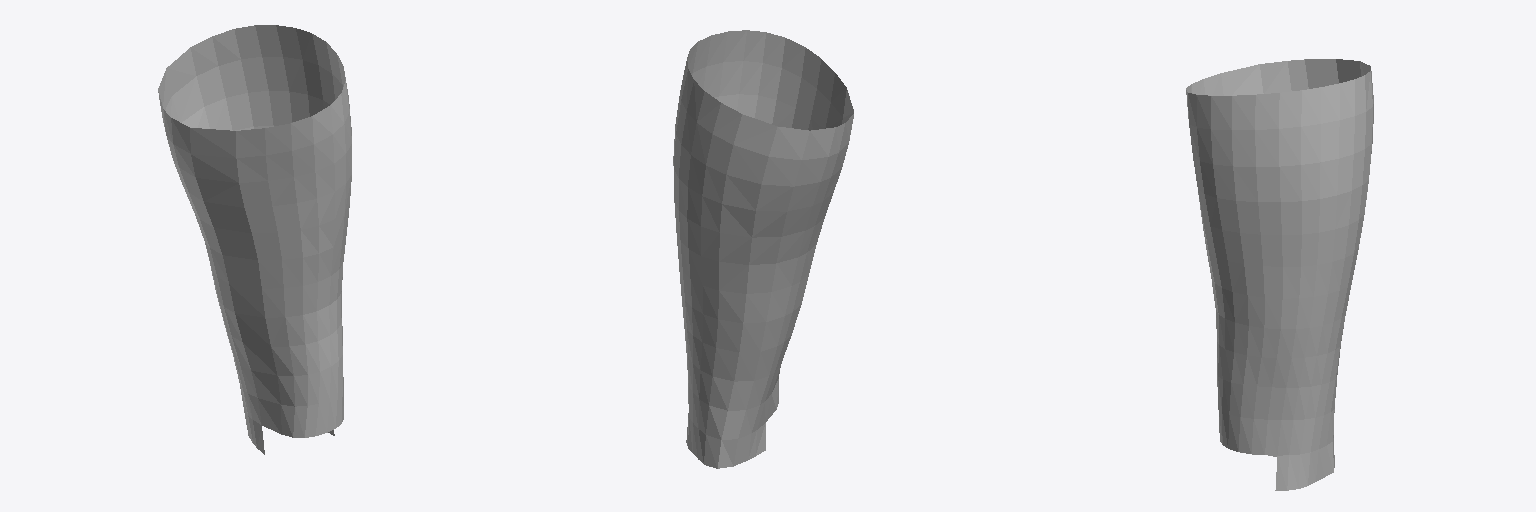
File: left_knee.obj
3 views of the same model, side by side, from view 1: azimuth 30°, elevation 25°; view 2: azimuth 150°, elevation 25°; view 3: azimuth 270°, elevation 25° (orthographic).
Parts seen in each view (by area): view 1: polySurface4 polySurface2 polySurface1 jackie; view 2: polySurface4 polySurface2 polySurface1 jackie; view 3: polySurface4 polySurface2 polySurface1 jackie.
Part boxes in pixels (x1,y1,x2,y2): polySurface4 polySurface2 polySurface1 jackie: (158,25,351,454); polySurface4 polySurface2 polySurface1 jackie: (673,30,853,468); polySurface4 polySurface2 polySurface1 jackie: (1186,59,1373,490).
Size of the model in its own units: 1.21 by 2.82 by 1.21.